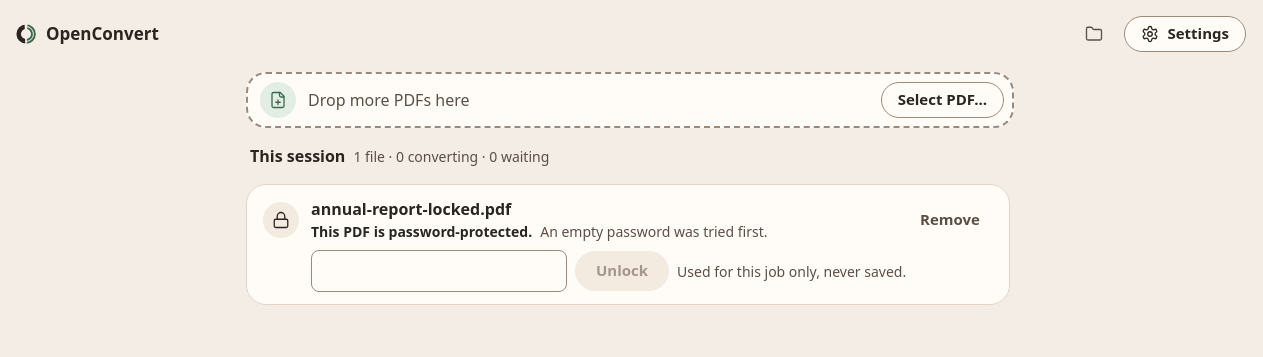
Test: queue route › a locked PDF asks for its password on the row, hands it over once, and says when it was wrong
Expected: the list item with aria-label "annual-report-locked.pdf, This PDF is password-protected." shows "This PDF is password-protected.", [311,222,532,241]
Expected: the list item with aria-label "annual-report-locked.pdf, This PDF is password-protected." shows "An empty password was tried first.", [540,222,768,241]
In the password field: (439, 271) [311,250,567,292], type "hunter22"
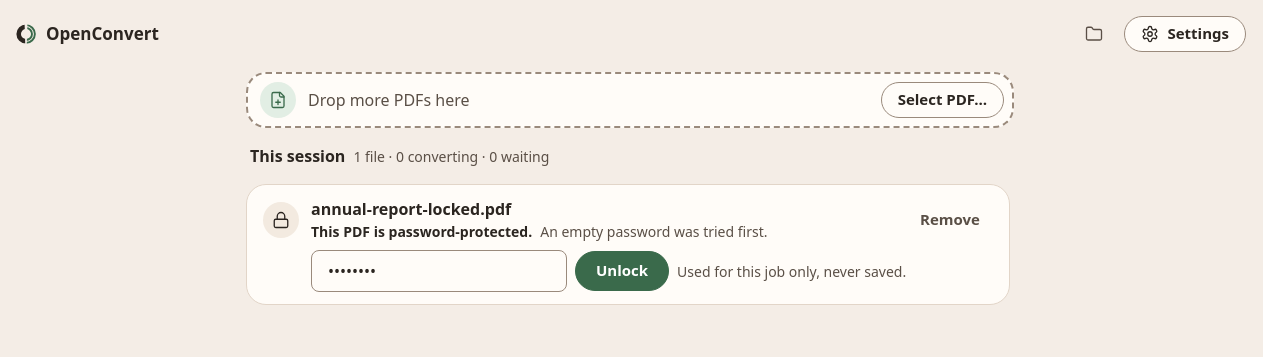
Expected: the submit button is enabled
Click the submit button: (622, 271) [575,251,669,291]
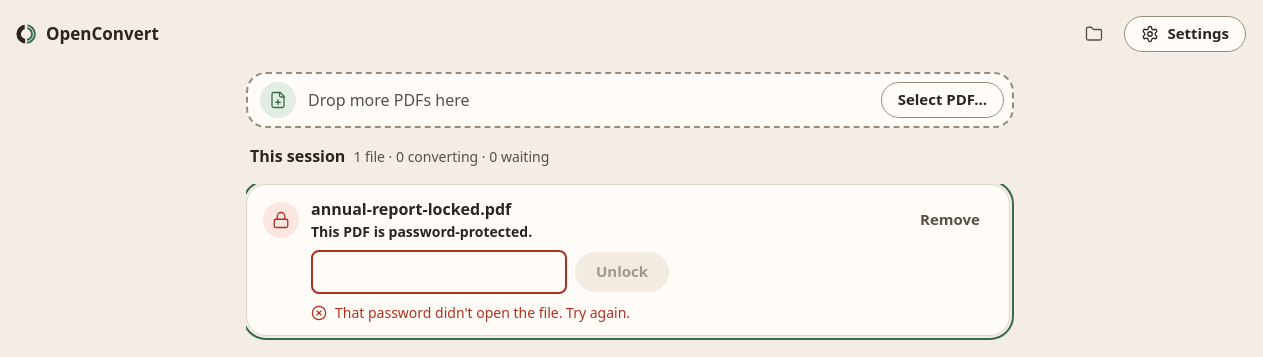
Expected: the password field is empty, [311,250,567,294]
Expected: the element showing "That password didn't open the file. Try again." is shown, [311,303,630,322]
Expected: the text "An empty password was tried first." is gone
